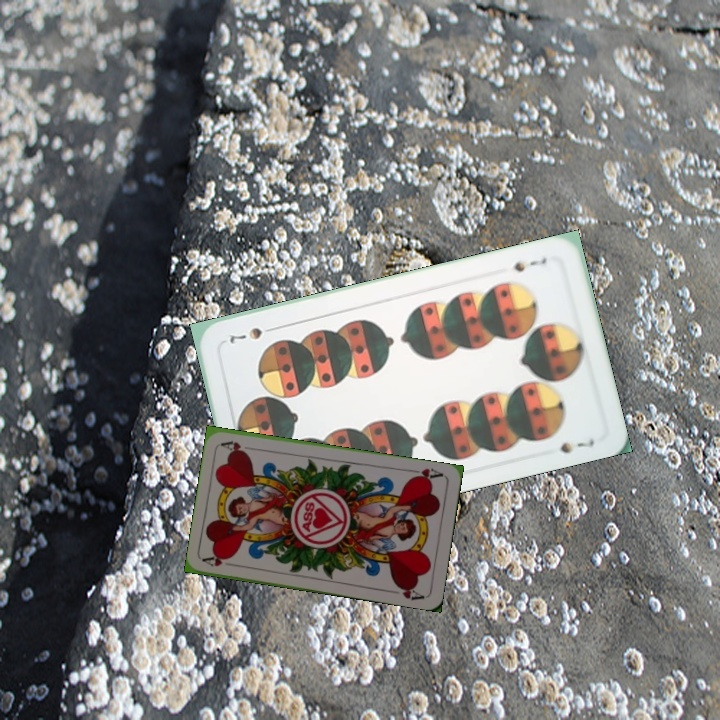HA: (405, 464, 446, 484), (200, 552, 233, 569)
S7: (509, 253, 549, 275)
